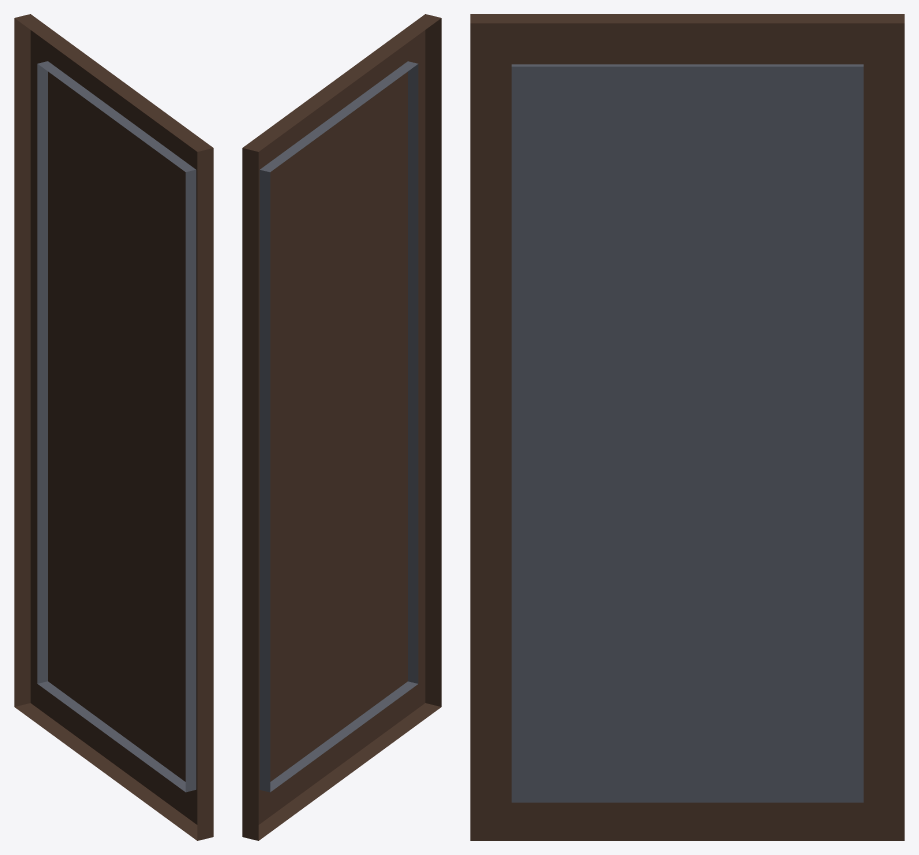
The model's file is S_Mirror02.fbx.
The picture shows the model from 3 angles, left to right: view 1: azimuth 30°, elevation 25°; view 2: azimuth 150°, elevation 25°; view 3: azimuth 270°, elevation 25°; orthographic projection. The views are drawn at different scales.
Parts seen in each view (by area): view 1: S_Mirror02; view 2: S_Mirror02; view 3: S_Mirror02.
Boxes of the visible parts, left/top/right/bottom form: S_Mirror02: left=14, top=14, right=213, bottom=840; S_Mirror02: left=242, top=14, right=441, bottom=840; S_Mirror02: left=470, top=14, right=904, bottom=840.
Bounding box in the file's own units: 5.42 × 175 × 84.24.
